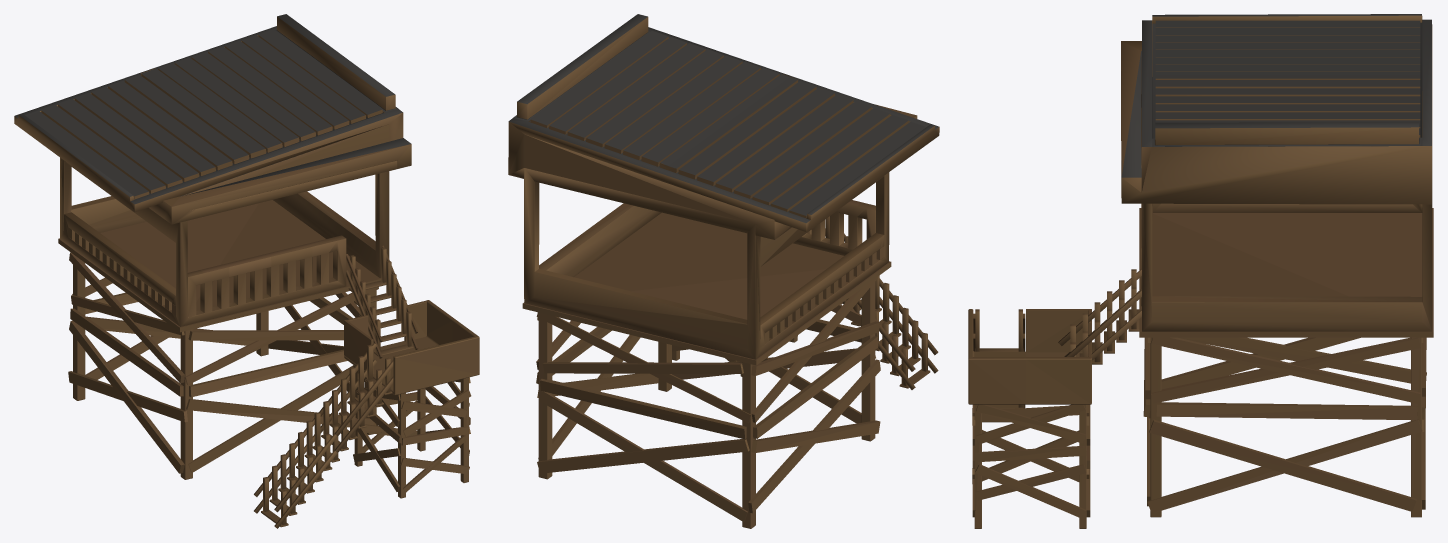
File: lookout.zfix-v1.lod0.glb
3 views of the same model, side by side, from view 1: azimuth 30°, elevation 25°; view 2: azimuth 150°, elevation 25°; view 3: azimuth 270°, elevation 25° (orthographic). The views are drawn at different scales.
Visible parts, largest first — view 1: Cube__0; view 2: Cube__0; view 3: Cube__0.
Boxes of the visible parts, left/top/right/bottom form: Cube__0: left=14, top=14, right=479, bottom=528; Cube__0: left=508, top=14, right=939, bottom=528; Cube__0: left=968, top=14, right=1433, bottom=528.
Bounding box in the file's own units: 6.02 × 7 × 7.33.
